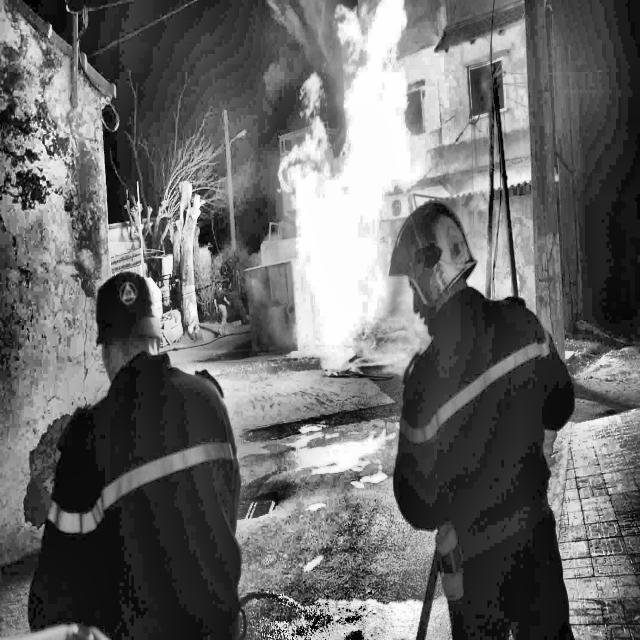fire: (246, 0, 463, 419)
